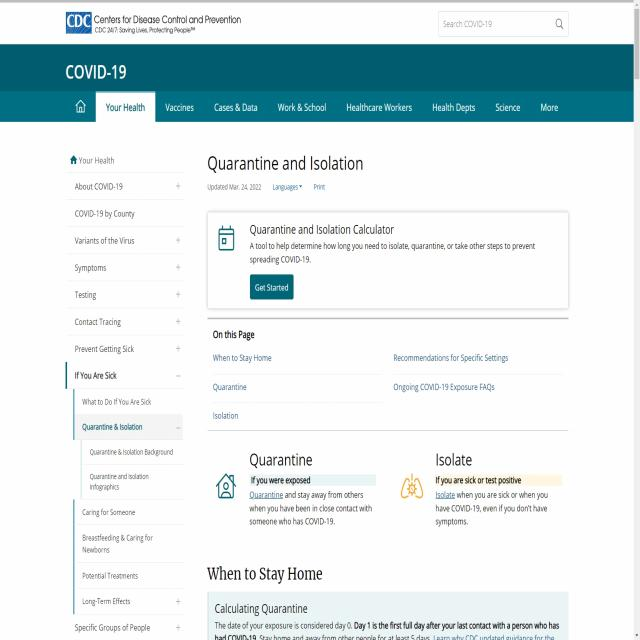menu-bar: (62, 86, 568, 125)
search: (433, 5, 571, 41)
side-panel: (63, 150, 191, 639)
